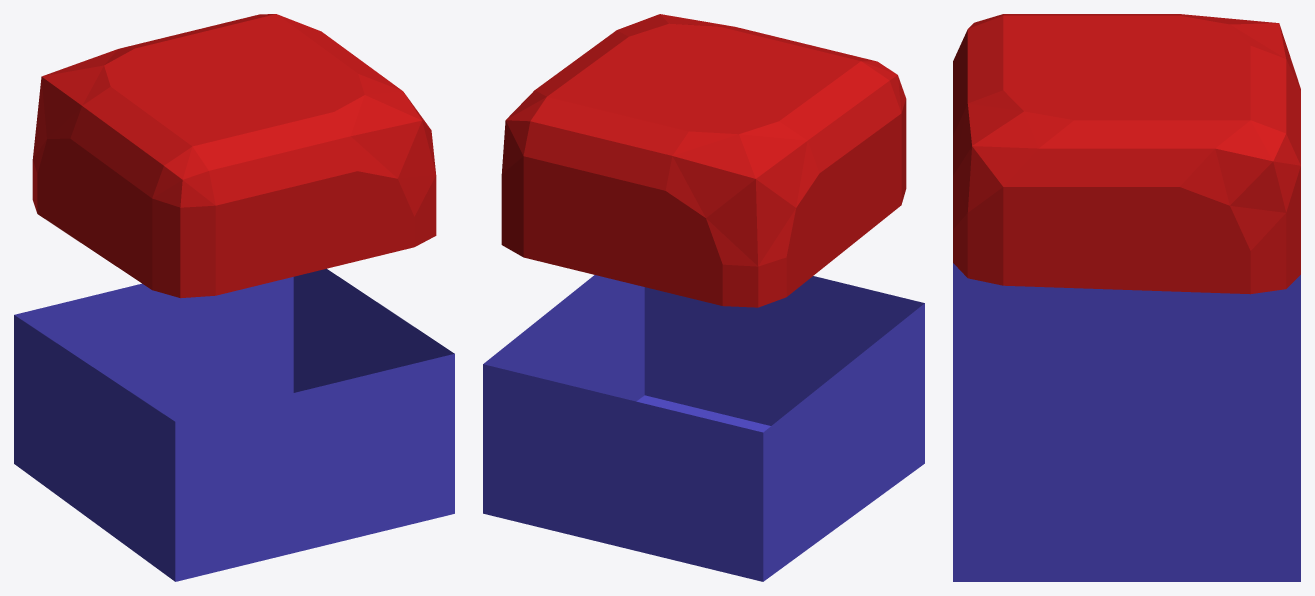
3 renders of one model, left to right at view 1: azimuth 30°, elevation 25°; view 2: azimuth 150°, elevation 25°; view 3: azimuth 270°, elevation 25°, orthographic. The views are drawn at different scales.
Visible parts, largest first — view 1: Cube, Cube.001; view 2: Cube, Cube.001; view 3: Cube, Cube.001.
Part boxes in pixels (x1,y1,x2,y2): Cube: [14, 268, 454, 581]; Cube.001: [32, 14, 436, 298]; Cube: [483, 275, 924, 581]; Cube.001: [501, 14, 906, 307]; Cube: [953, 263, 1300, 581]; Cube.001: [953, 14, 1300, 294].
Bounding box in the file's own units: 200 × 280 × 200.
